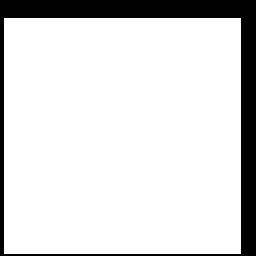person: (4, 18, 240, 253)
